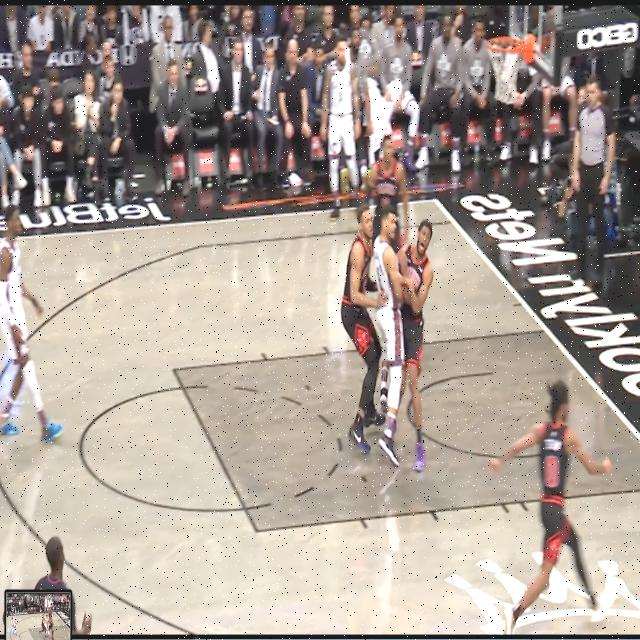foul: (334, 191, 473, 494)
no foul: (501, 354, 614, 640), (0, 192, 68, 462)
